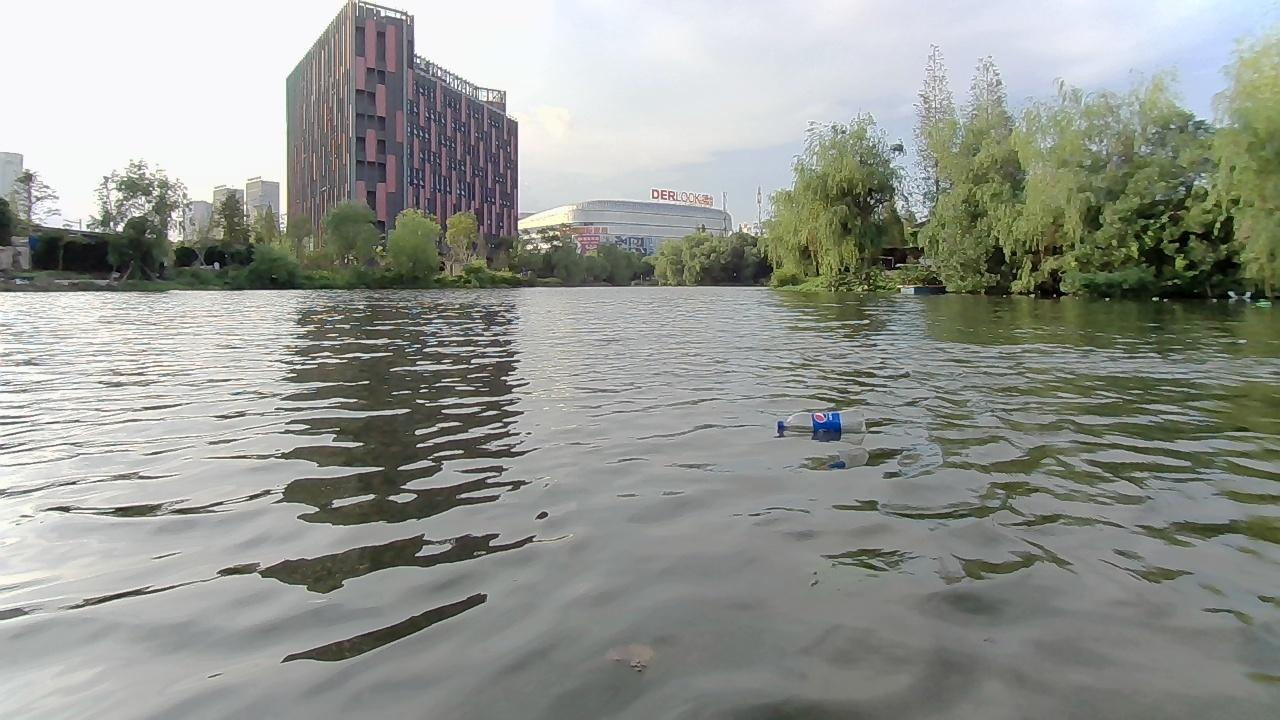bottle: (774, 408, 871, 433)
